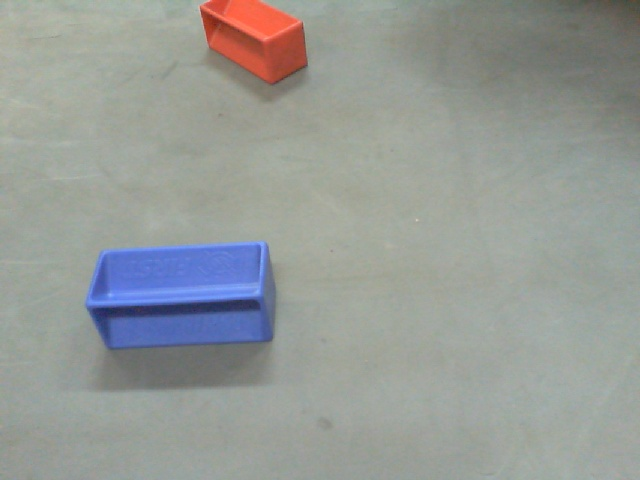BlueSample: (87, 244, 278, 352)
RedSample: (197, 1, 308, 85)
